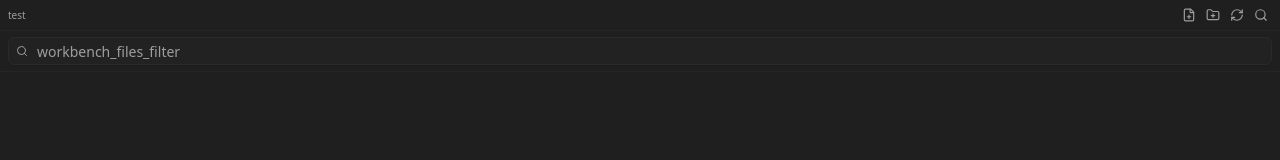
FilesTab — busca em conteúdo › toggle de busca alterna o placeholder do filtro para o de busca
This screenshot has width=1280, height=160.
Click the button named "tooltip_files_search" at (1261, 15), box [1250, 4, 1272, 26]
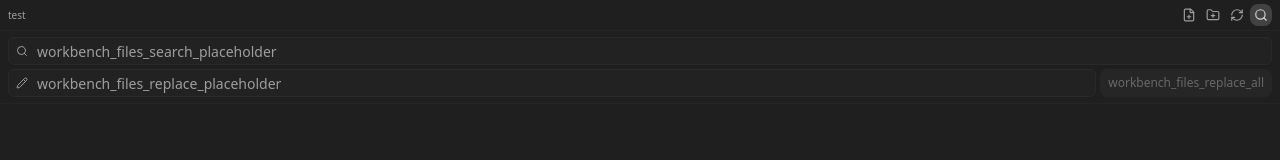
expect the search field with placeholder "workbench_files_search_placeholder" is shown: met, box [8, 37, 1272, 65]
